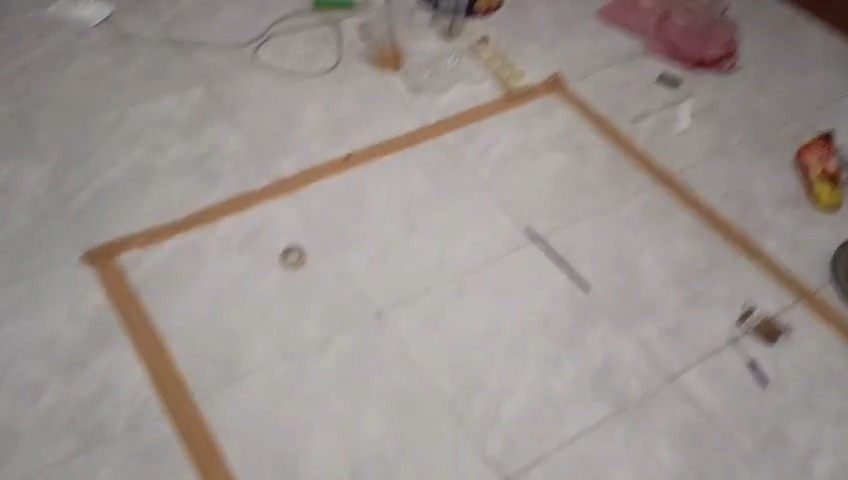floor marking: (82, 74, 847, 479)
